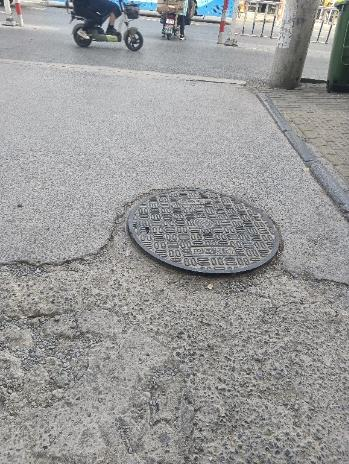wellcover: (111, 182, 296, 286)
